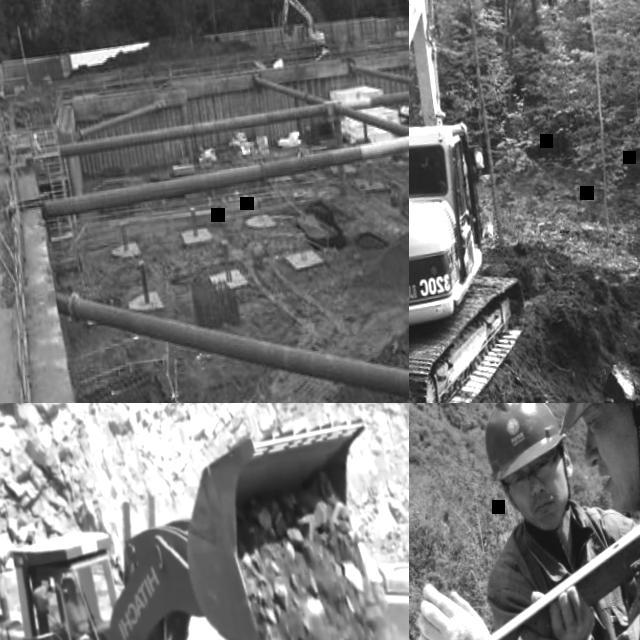helmet: (478, 403, 573, 482), (64, 576, 75, 588), (32, 133, 37, 139)
vest: (67, 598, 90, 637), (29, 132, 46, 180), (31, 138, 39, 156)
